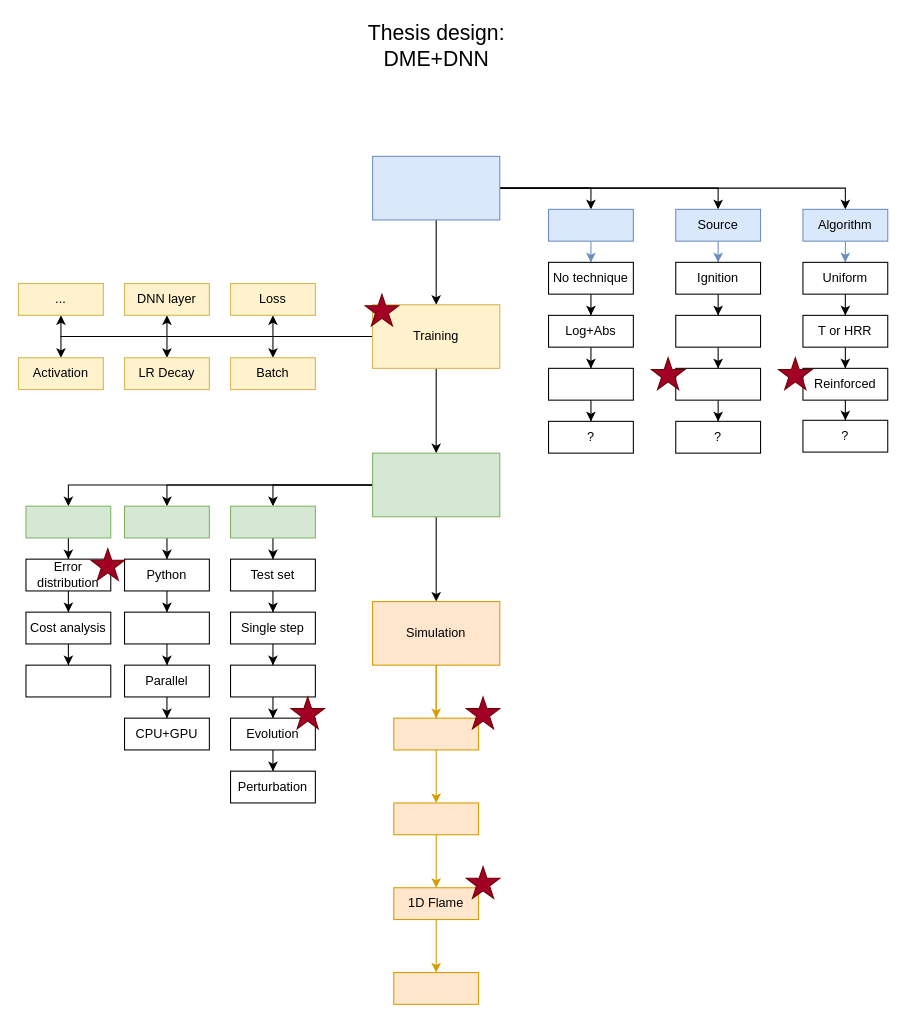
The diagram is 906 pixels wide and 1023 high, and some of its shapes have lost their labels. Each missing label, with the centre of its shape:
"0D ignition" belongs at (436,818).
"2D/3D" belongs at (436,987).
"Accuracy" belongs at (272,521).
"Analysis" belongs at (68,521).
"BCT" belongs at (590,383).
"Bottleneck" belongs at (68,680).
"Coding" belongs at (436,733).
"Flame+Ignition" belongs at (718,330).
"Fortran" belongs at (166,627).
"Full space" belongs at (718,383).
"Inference/Prediction" belongs at (436,484).
"Multi-step" belongs at (272,680).
"Portability" belongs at (166,521).
"Preprocess" belongs at (590,224).
"Sampling" belongs at (436,187).
